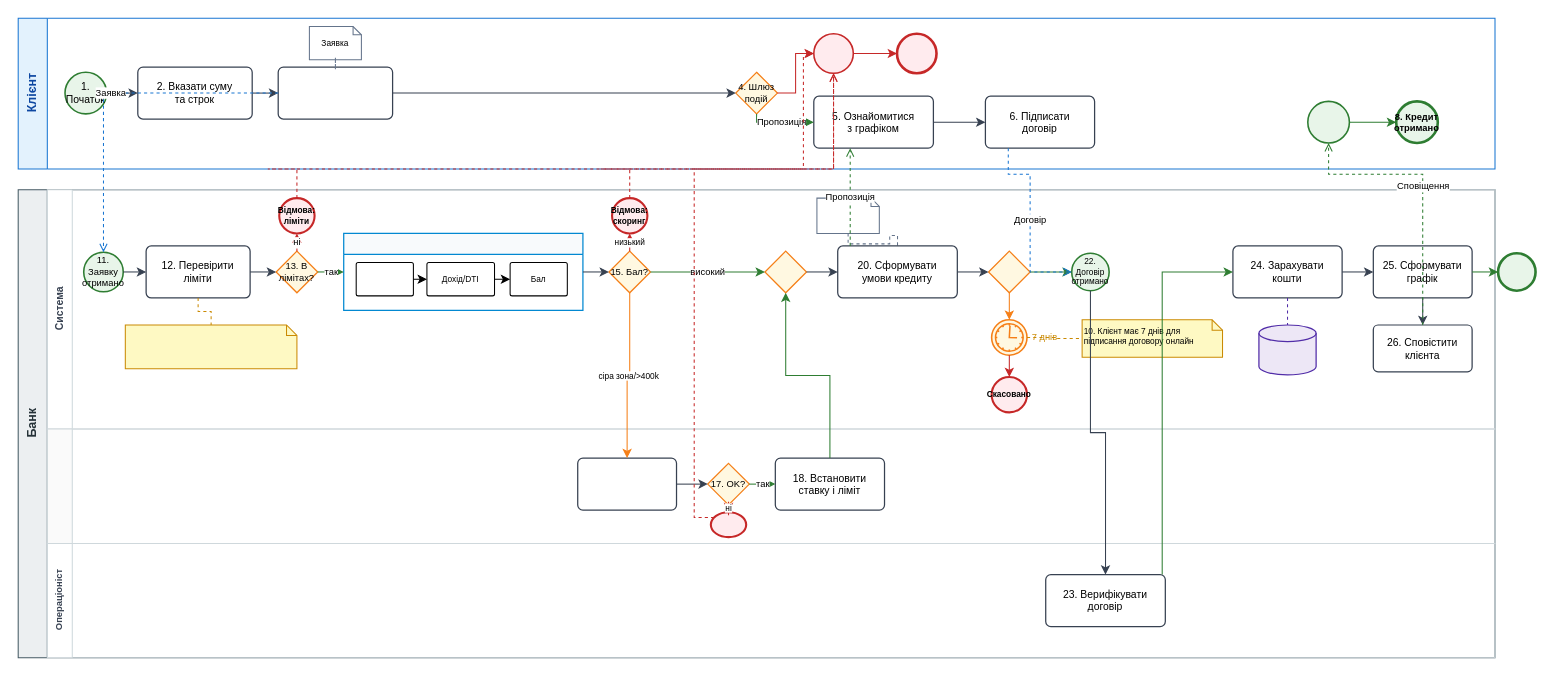
This 1555x676 diagram has some shape labels left out. Here are the shapes that lost their labels. From the top down, the box of each, then its label:
(813, 33, 854, 74): Відмову отримано
(895, 32, 937, 74): Заявку відхилено
(277, 66, 393, 119): 3. Подати заявку на кредит
(1307, 100, 1350, 143): 7. Кошти отримано
(816, 197, 879, 233): Кредитна пропозиція
(355, 262, 413, 296): УБКІ
(343, 232, 583, 311): 14. Скоринг заявки
(764, 250, 807, 293): 19. XOR
(987, 250, 1030, 293): 21. Шлюз подій
(1496, 251, 1536, 292): 27. Кінець
(124, 324, 297, 369): 9. Ліміти: 1 000..400 000 грн, 1..60 міс; понад 400 000 грн - ризик-менеджер
(1258, 324, 1316, 375): Сховище «Рахунки»
(577, 457, 677, 510): 16. Ручний розгляд
(46, 428, 1495, 543): Ризик- менеджер
(709, 511, 747, 538): Відмова
